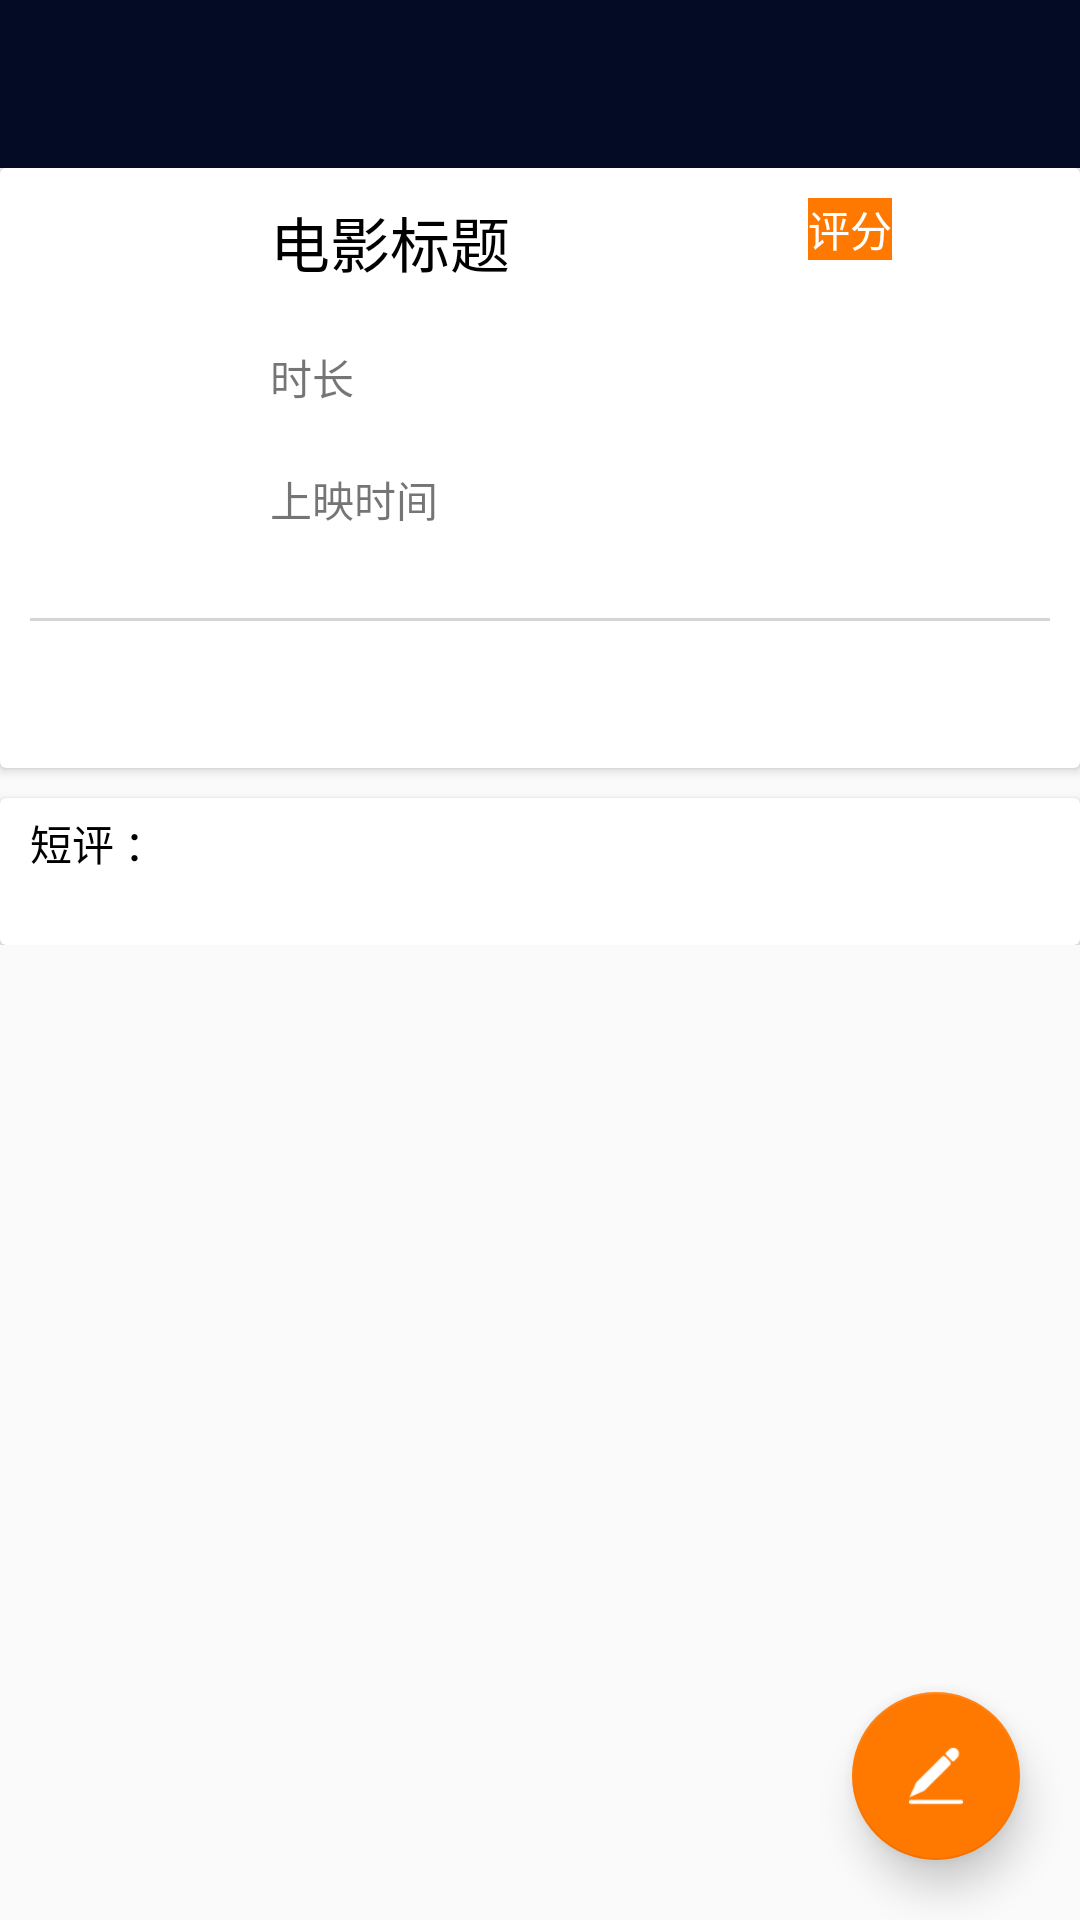

Screen size 1080*1920. Icon name, then its box in pixels as (x1,y1,x2,y2):
comment: (852,1692,1020,1860)
